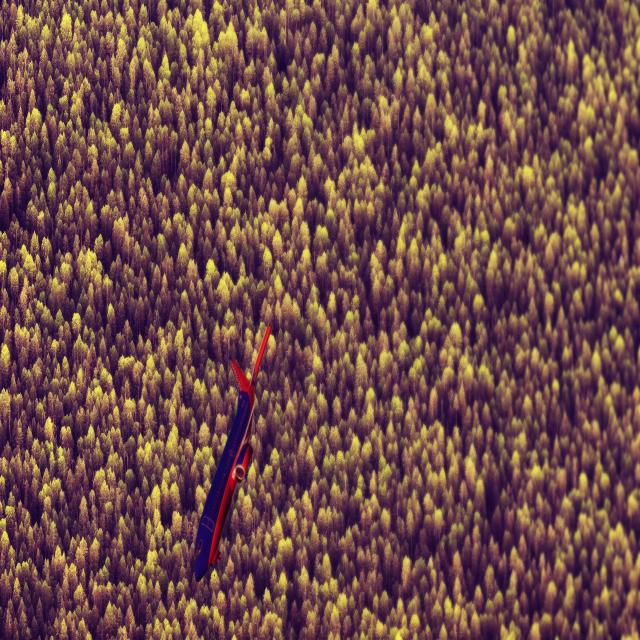airplane: (193, 323, 272, 582)
